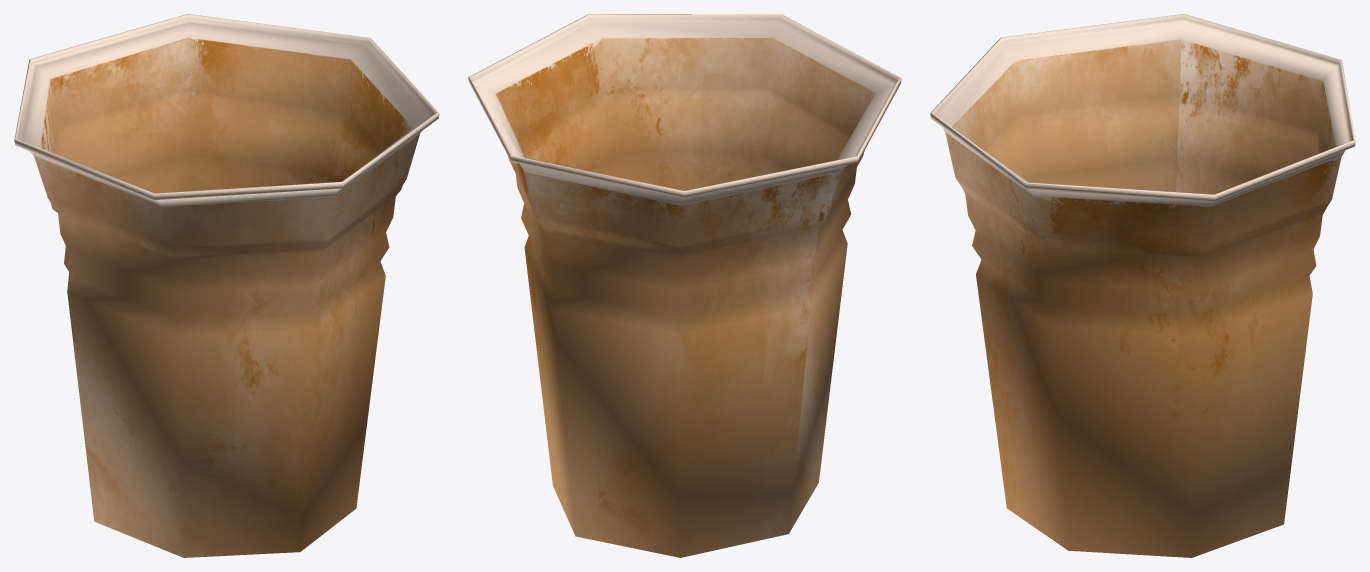
The model's file is 03-gobeletplastique-model.glb.
The picture shows the model from 3 angles, left to right: view 1: azimuth 30°, elevation 25°; view 2: azimuth 150°, elevation 25°; view 3: azimuth 270°, elevation 25°; orthographic projection.
Visible parts, largest first — view 1: 03-gobeletplastique-model; view 2: 03-gobeletplastique-model; view 3: 03-gobeletplastique-model.
Part boxes in pixels (x1,y1,x2,y2): 03-gobeletplastique-model: [14, 14, 439, 557]; 03-gobeletplastique-model: [468, 14, 901, 557]; 03-gobeletplastique-model: [930, 14, 1355, 557].
Bounding box in the file's own units: 2.75 × 2.8 × 2.72.
1 material, 1 textured.
